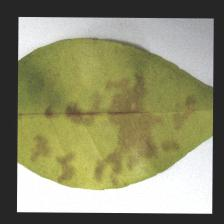black spot: (34, 63, 159, 155)
